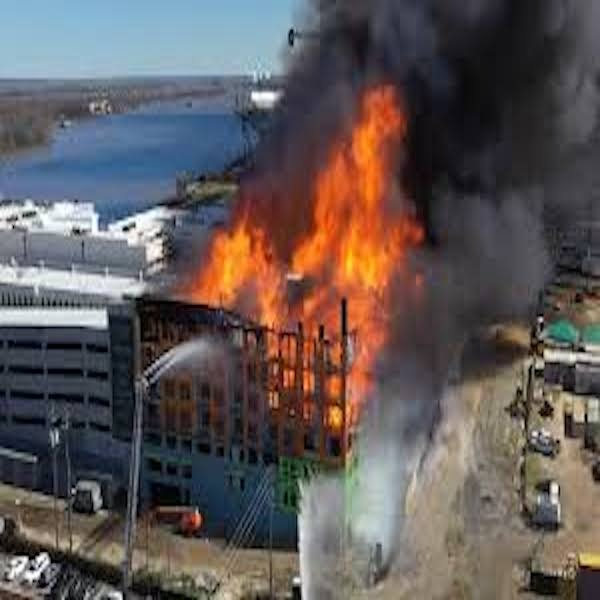fire: (307, 80, 410, 301), (201, 220, 275, 306), (347, 306, 387, 405), (268, 320, 340, 366)
